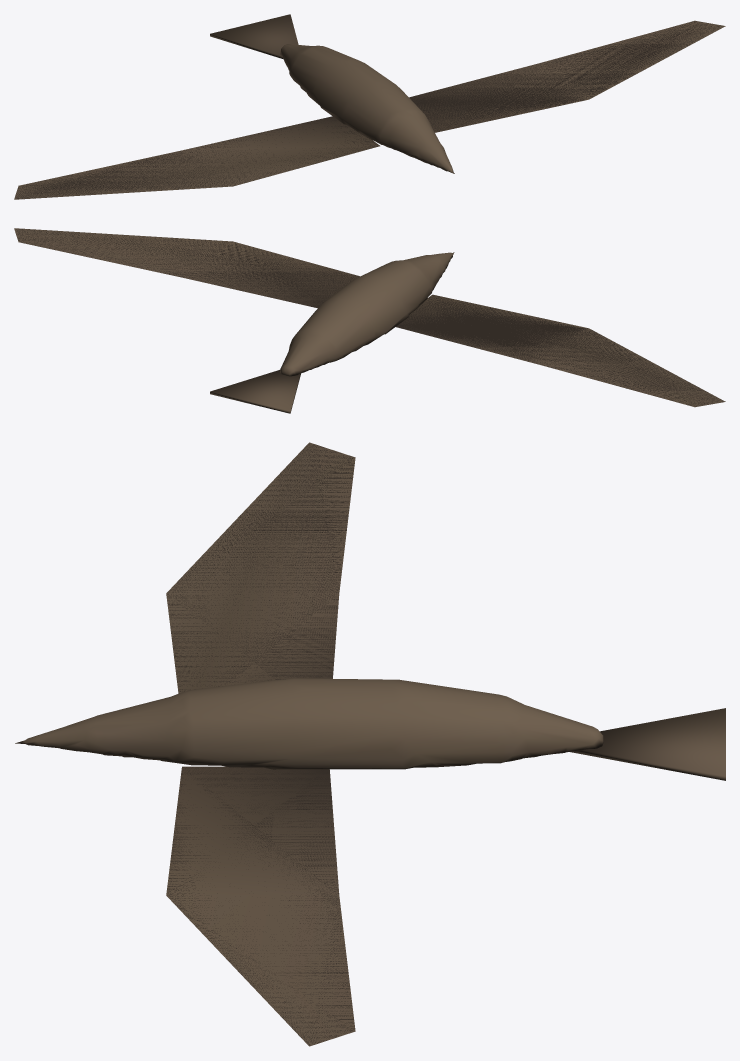
File: adler.glb
The picture shows the model from 3 angles, top to bottom: view 1: azimuth 30°, elevation 25°; view 2: azimuth 150°, elevation 25°; view 3: azimuth 270°, elevation 25°; orthographic projection. The views are drawn at different scales.
Visible parts, largest first — view 1: lack; view 2: lack; view 3: lack.
Boxes of the visible parts, x1,y1,x2,y2 form: lack: (14,14,725,199); lack: (14,228,725,413); lack: (15,442,725,1046).
Size of the model in its own units: 2.1 by 0.1007 by 1.05.
